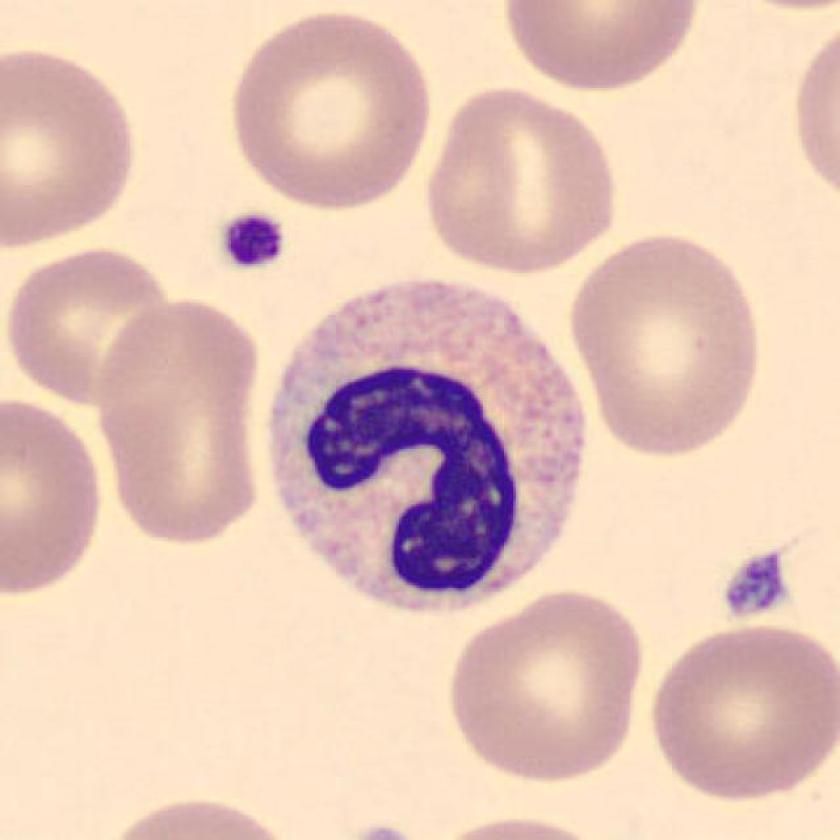neutrophil: (263, 277, 587, 614)
